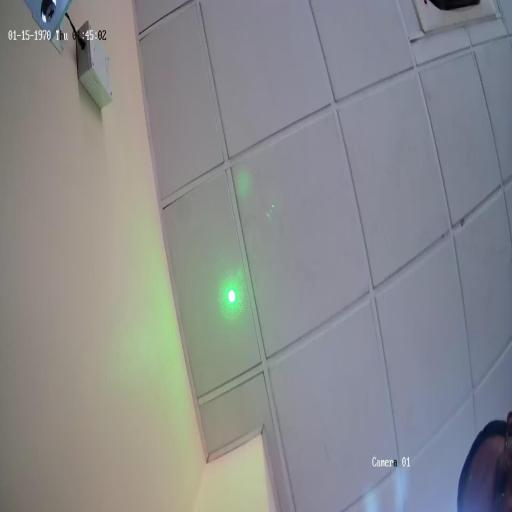laser: (225, 284, 238, 307)
